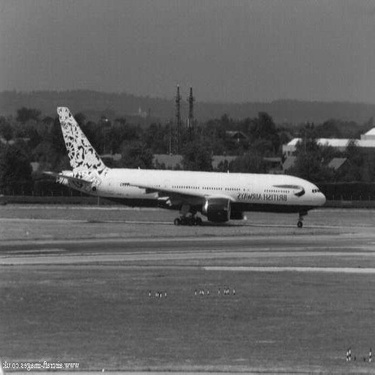airplane: (36, 97, 329, 229), (287, 118, 371, 158)
